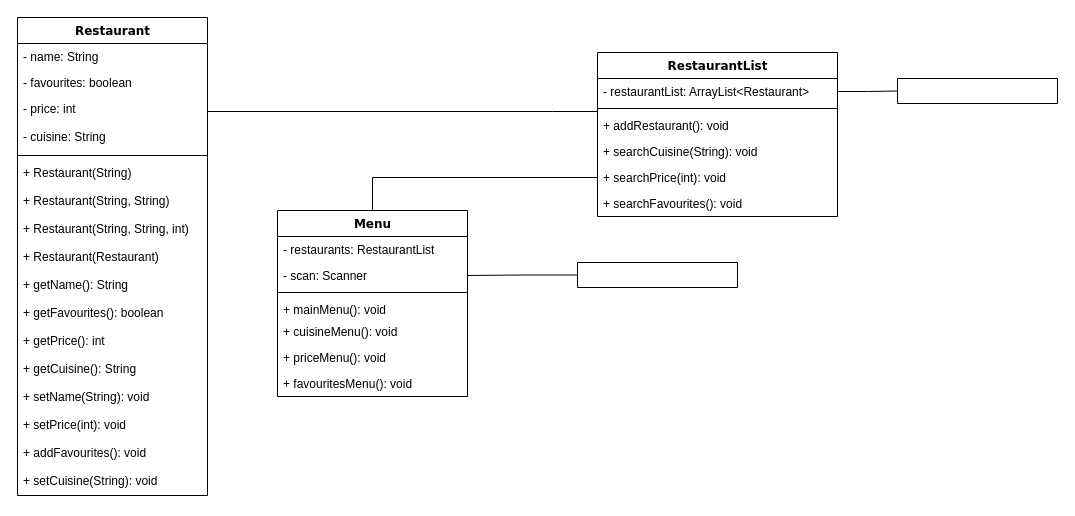
The diagram is 1075 pixels wide and 516 high, and some of its shapes have lost their labels. The shapes that lost their labels are listed below. From the top down, each one's centre as x and y in pixels, then its label:
the point at 977,91: ArrayList
the point at 657,275: Scanner
